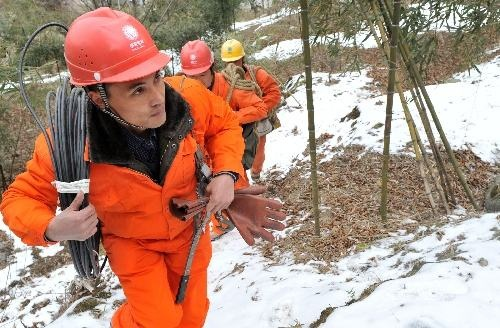red: (60, 3, 171, 132), (180, 36, 214, 87)
yellow: (218, 37, 247, 73)
